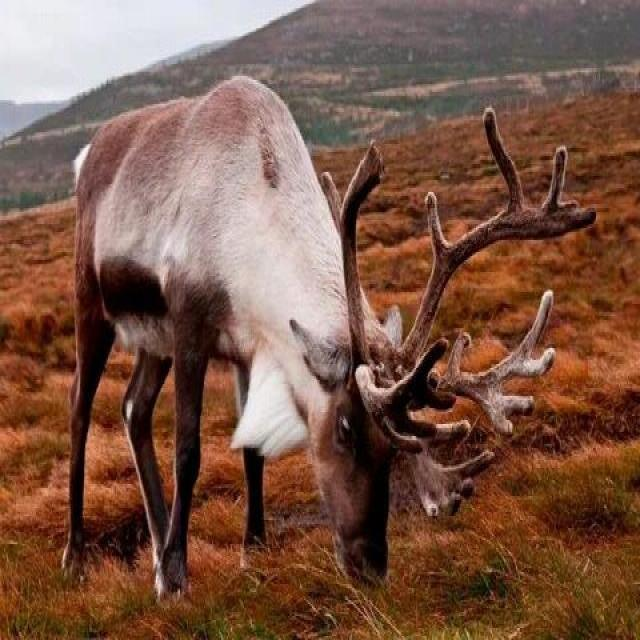deer: (54, 36, 513, 636)
